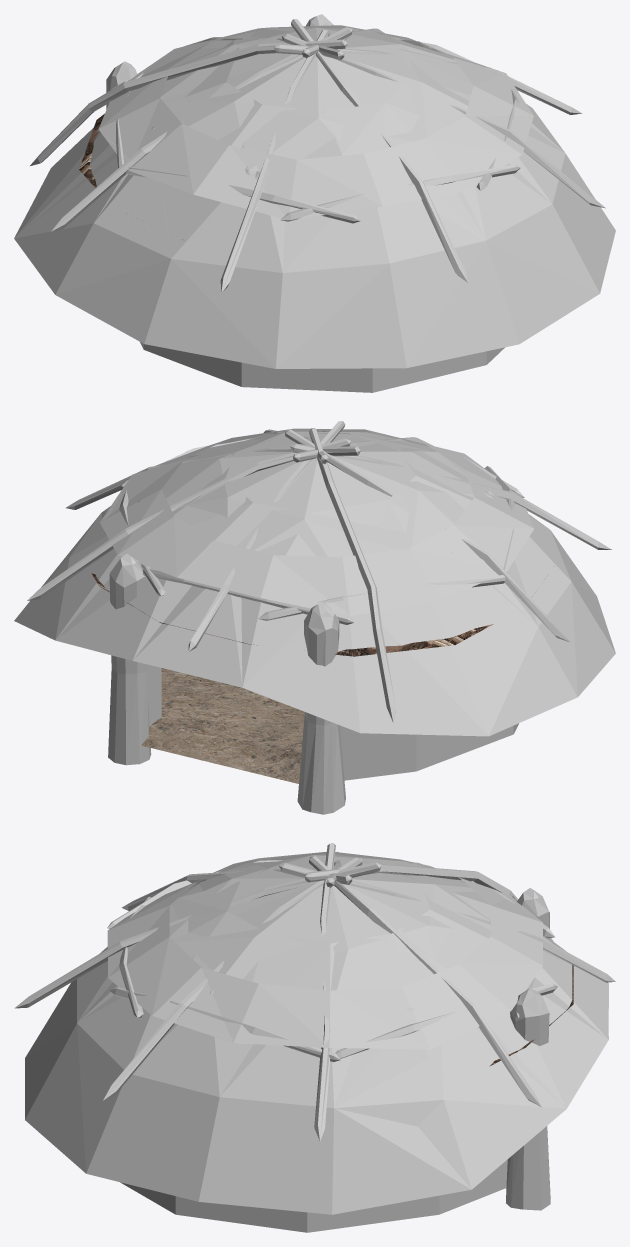
The model's file is Sty_1_LOD1.fbx.
The picture shows the model from 3 angles, top to bottom: view 1: azimuth 30°, elevation 25°; view 2: azimuth 150°, elevation 25°; view 3: azimuth 270°, elevation 25°; orthographic projection. The views are drawn at different scales.
Parts seen in each view (by area): view 1: Alpha, Wood, Roof; view 2: Alpha, Wood, Ground, Roof; view 3: Alpha, Wood.
Part boxes in pixels (x1=…): Alpha: x1=14, y1=25, x2=615, y2=368; Wood: x1=30, y1=14, x2=605, y2=392; Roof: x1=79, y1=113, x2=183, y2=239; Alpha: x1=14, y1=428, x2=615, y2=736; Wood: x1=27, y1=421, x2=611, y2=814; Ground: x1=141, y1=668, x2=304, y2=783; Roof: x1=91, y1=566, x2=554, y2=656; Alpha: x1=25, y1=851, x2=608, y2=1214; Wood: x1=14, y1=843, x2=615, y2=1232.
Size of the model in its own units: 854 by 811 by 432.
